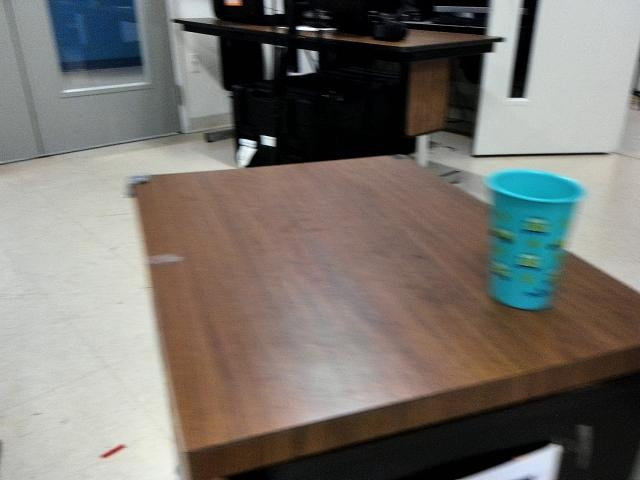coffee_cup: (475, 160, 579, 317)
